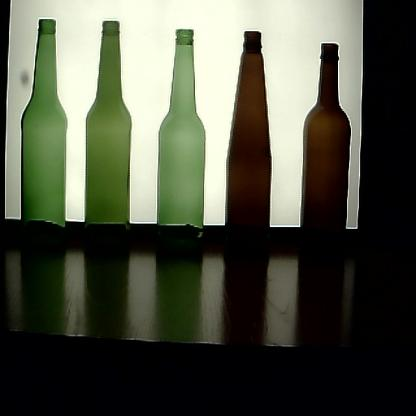Can: (298, 43, 353, 285), (154, 29, 208, 270), (80, 20, 132, 270), (16, 15, 70, 250), (224, 28, 272, 290)
